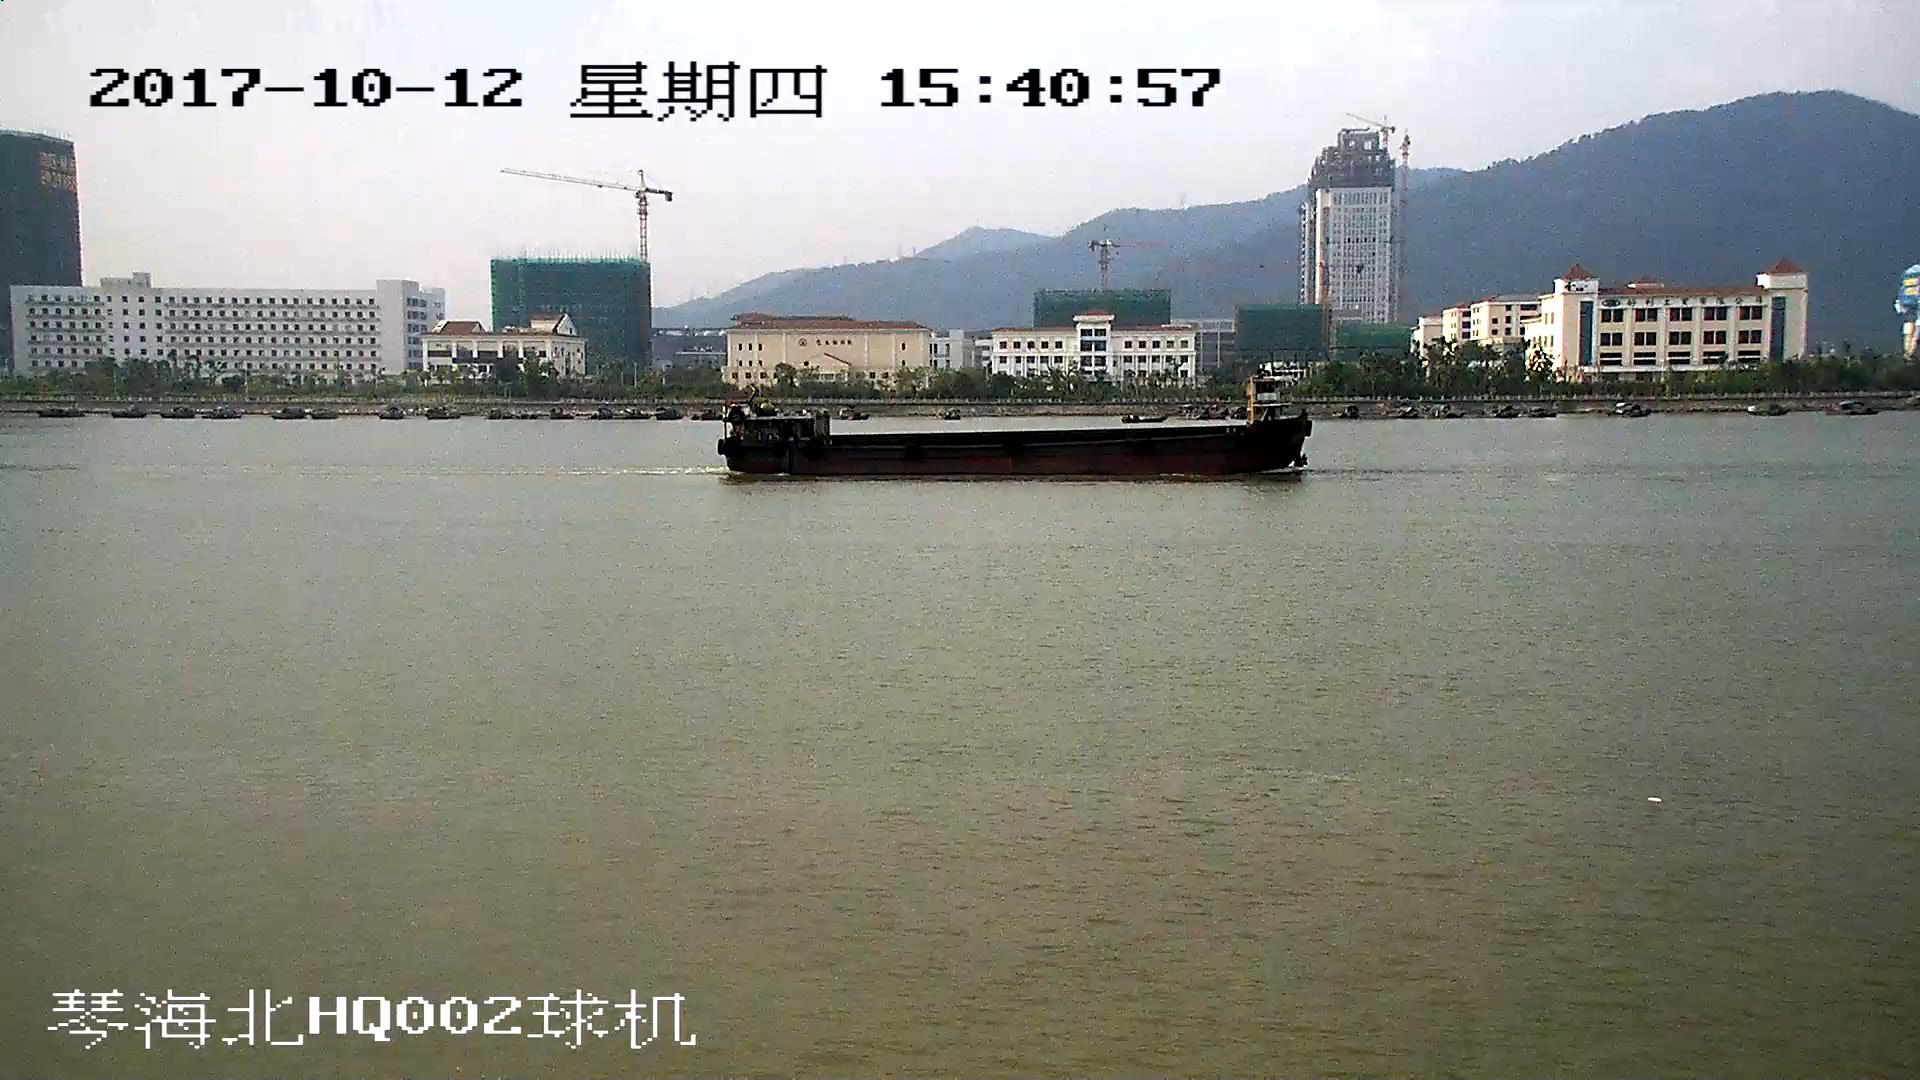general cargo ship: (714, 386, 1314, 479)
